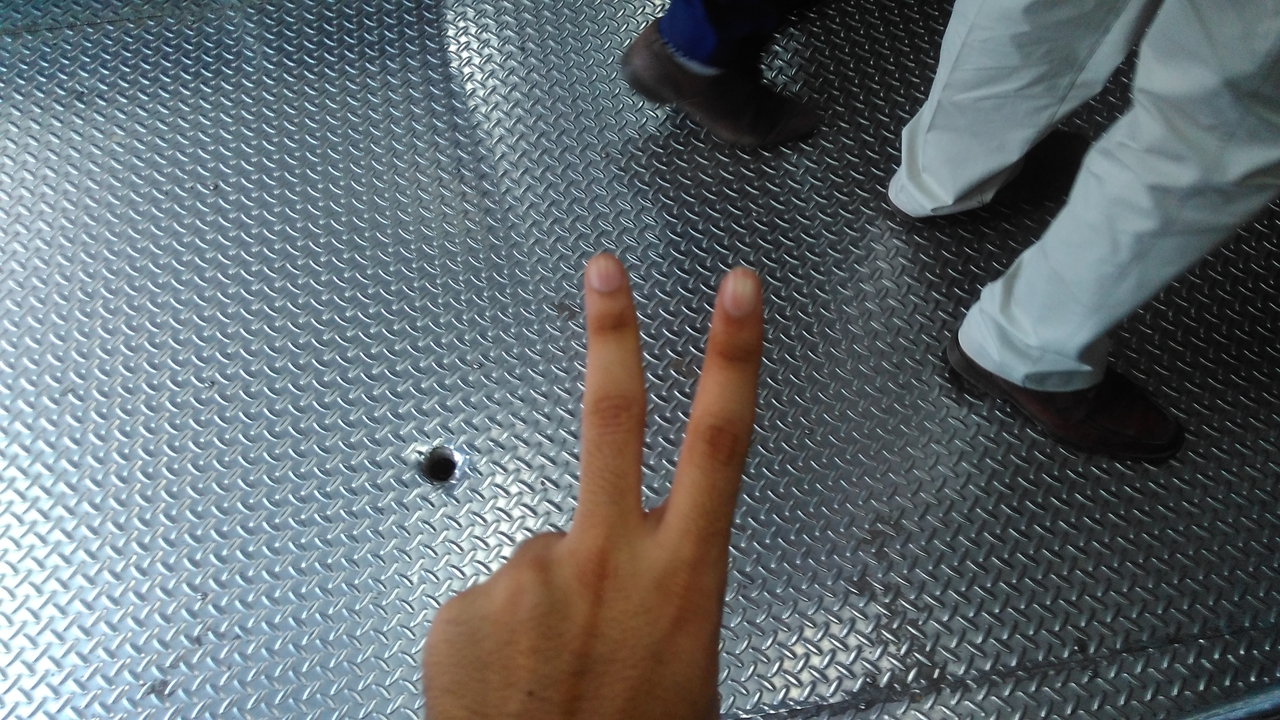fingertip: (708, 258, 772, 324), (578, 248, 638, 308)
